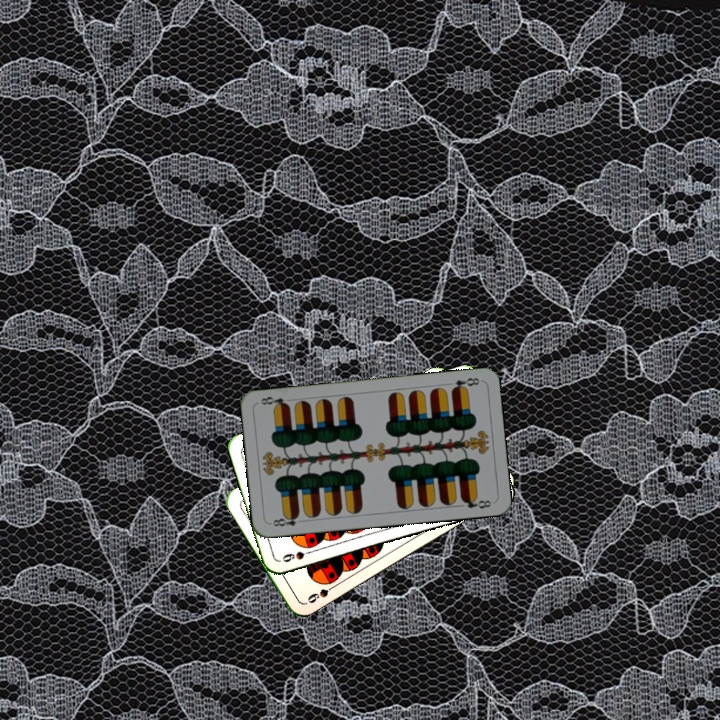E8: (269, 510, 307, 529), (448, 373, 482, 394)
S9: (302, 575, 339, 606), (278, 546, 317, 565)
